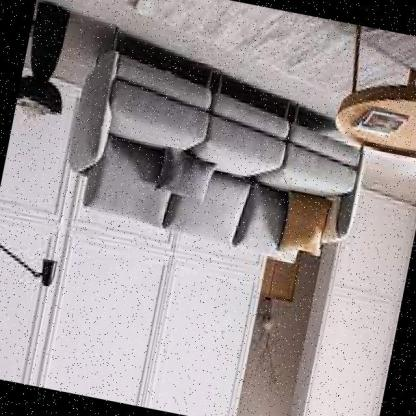Sofa: (36, 12, 385, 298)
